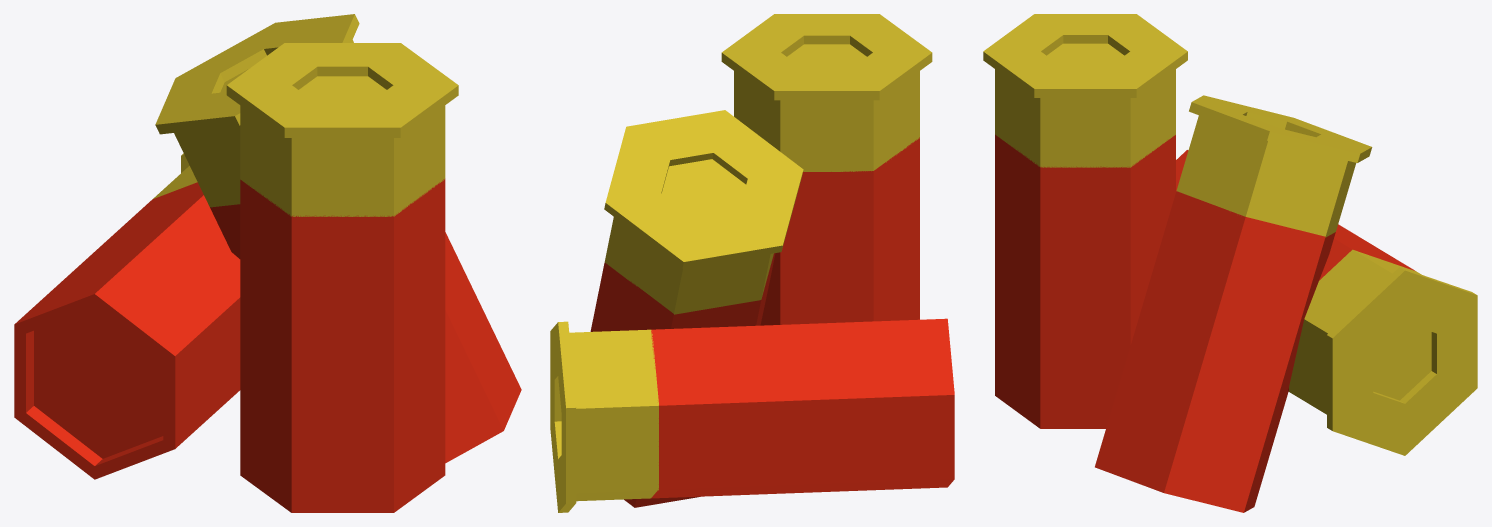
Rendered from 12 Guage shell.fbx.
3 views of the same model, side by side, from view 1: azimuth 30°, elevation 25°; view 2: azimuth 150°, elevation 25°; view 3: azimuth 270°, elevation 25° (orthographic). The views are drawn at different scales.
Visible parts, largest first — view 1: End.001; view 2: End.001; view 3: End.001.
Part boxes in pixels (<box>): End.001: <box>14,14,521,512</box>; End.001: <box>550,14,954,512</box>; End.001: <box>983,14,1477,512</box>.
Bounding box in the file's own units: 516 × 495 × 547.
